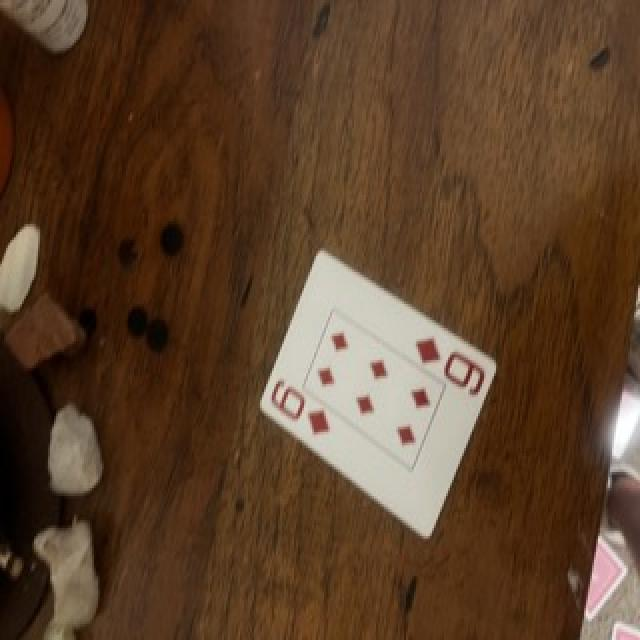6 of diamonds: (260, 252, 496, 538)
